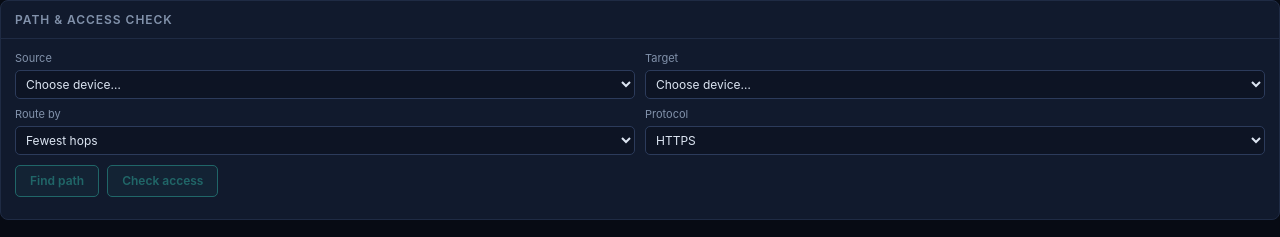
Test: PathAccessPanel › disables actions until both endpoints are chosen
Expected: the button "Find path" is disabled, [15,165,99,197]
Select "Public Portal" in the dropdown labelled "Source". click: (325, 85)
box: [15,70,635,99]
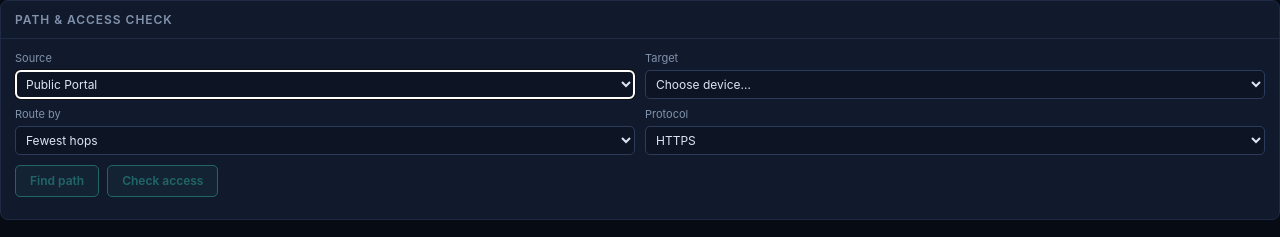
Select "Records Database" in the dropdown labelled "Target". click: (955, 85)
box: [645,70,1265,99]
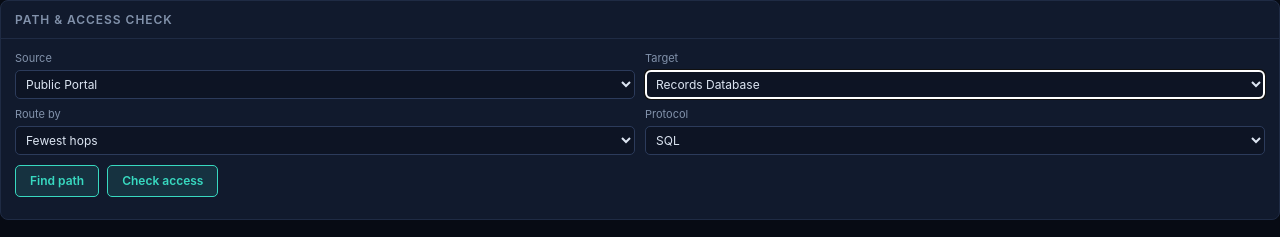
Expected: the button "Find path" is enabled, [15,165,99,197]
